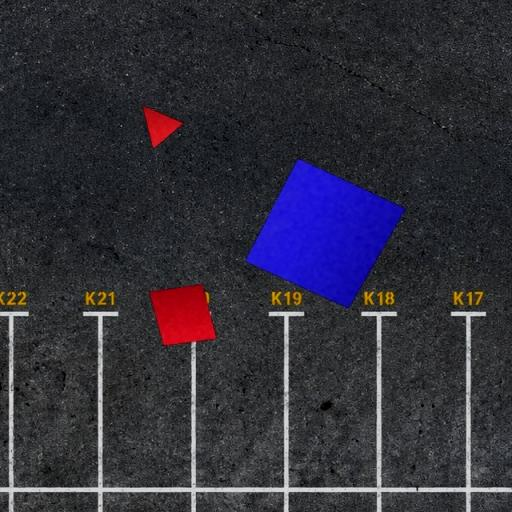BLUE_SQUARE: (244, 158, 406, 310)
RED_SQUARE: (148, 283, 218, 347)
